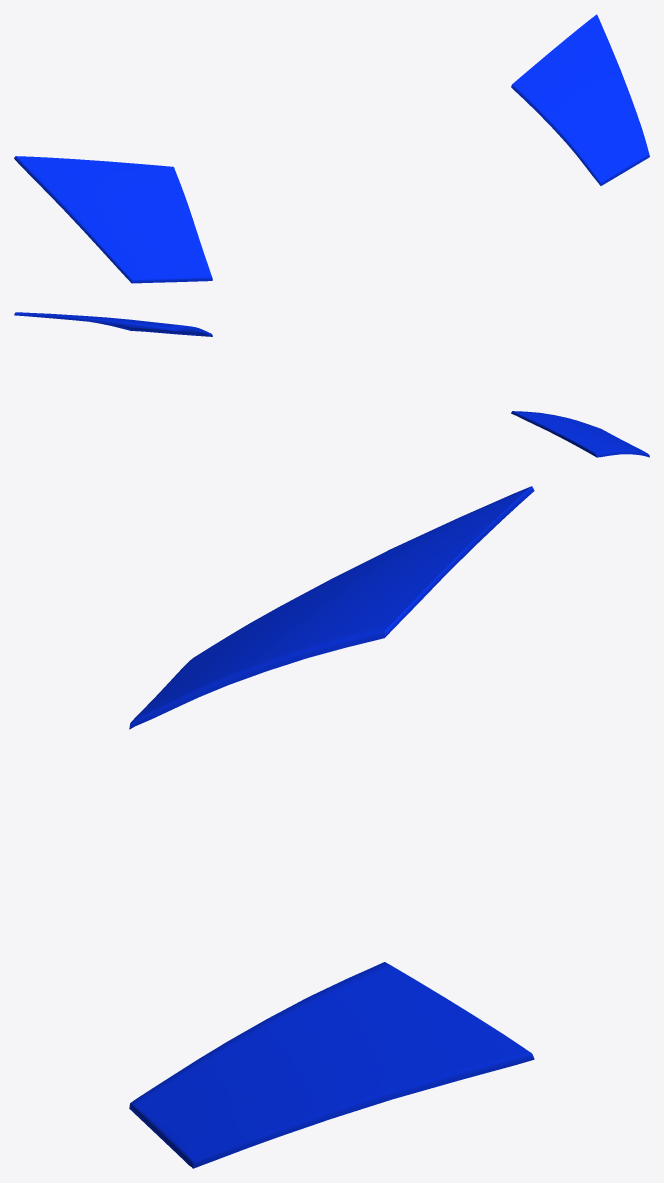
Rendered from Murcielago-FrontLightGlasses.fbx.
3 renders of one model, top to bottom at view 1: azimuth 30°, elevation 25°; view 2: azimuth 150°, elevation 25°; view 3: azimuth 270°, elevation 25°, orthographic. The views are drawn at different scales.
Parts seen in each view (by area): view 1: polymsh105; view 2: polymsh105; view 3: polymsh105.
Boxes of the visible parts, x1,y1,x2,y2 form: polymsh105: (14,14,649,283); polymsh105: (14,312,649,457); polymsh105: (129,486,534,1168).
Bounding box in the file's own units: 3.32 × 0.4072 × 1.
